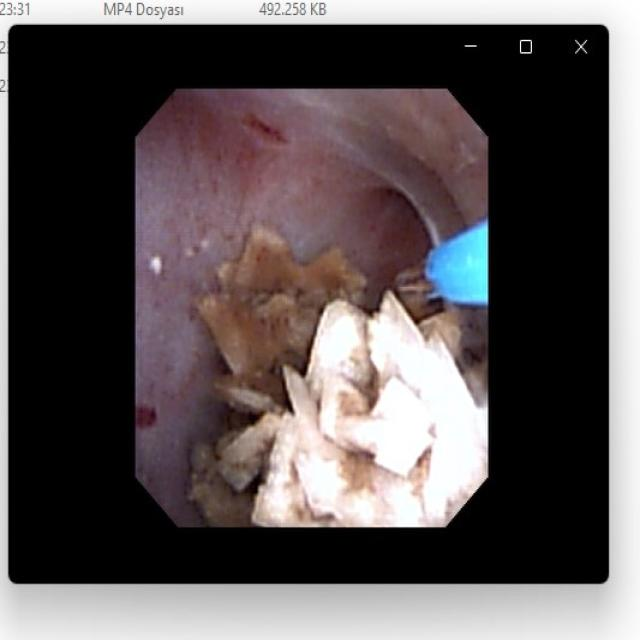fiber: (430, 228, 484, 301)
stone: (192, 233, 481, 521)
